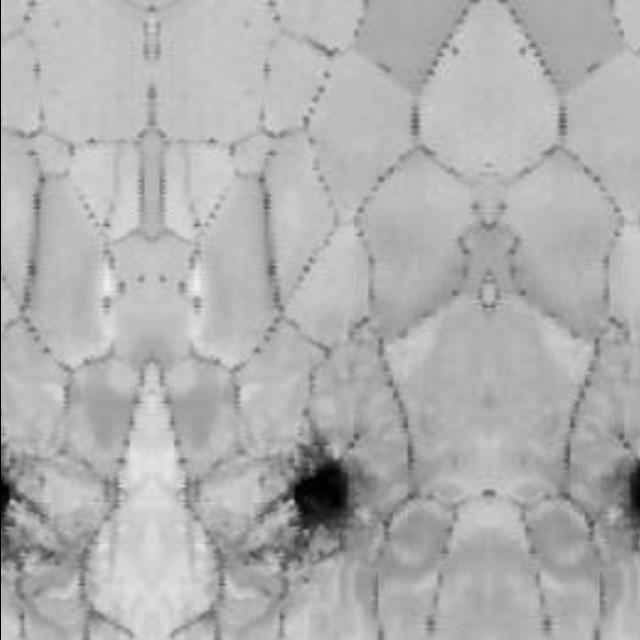good_void: (244, 426, 371, 588), (0, 436, 60, 577), (607, 451, 640, 561)
